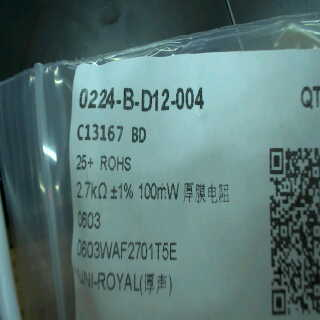2.7kR: (73, 179, 109, 202)
